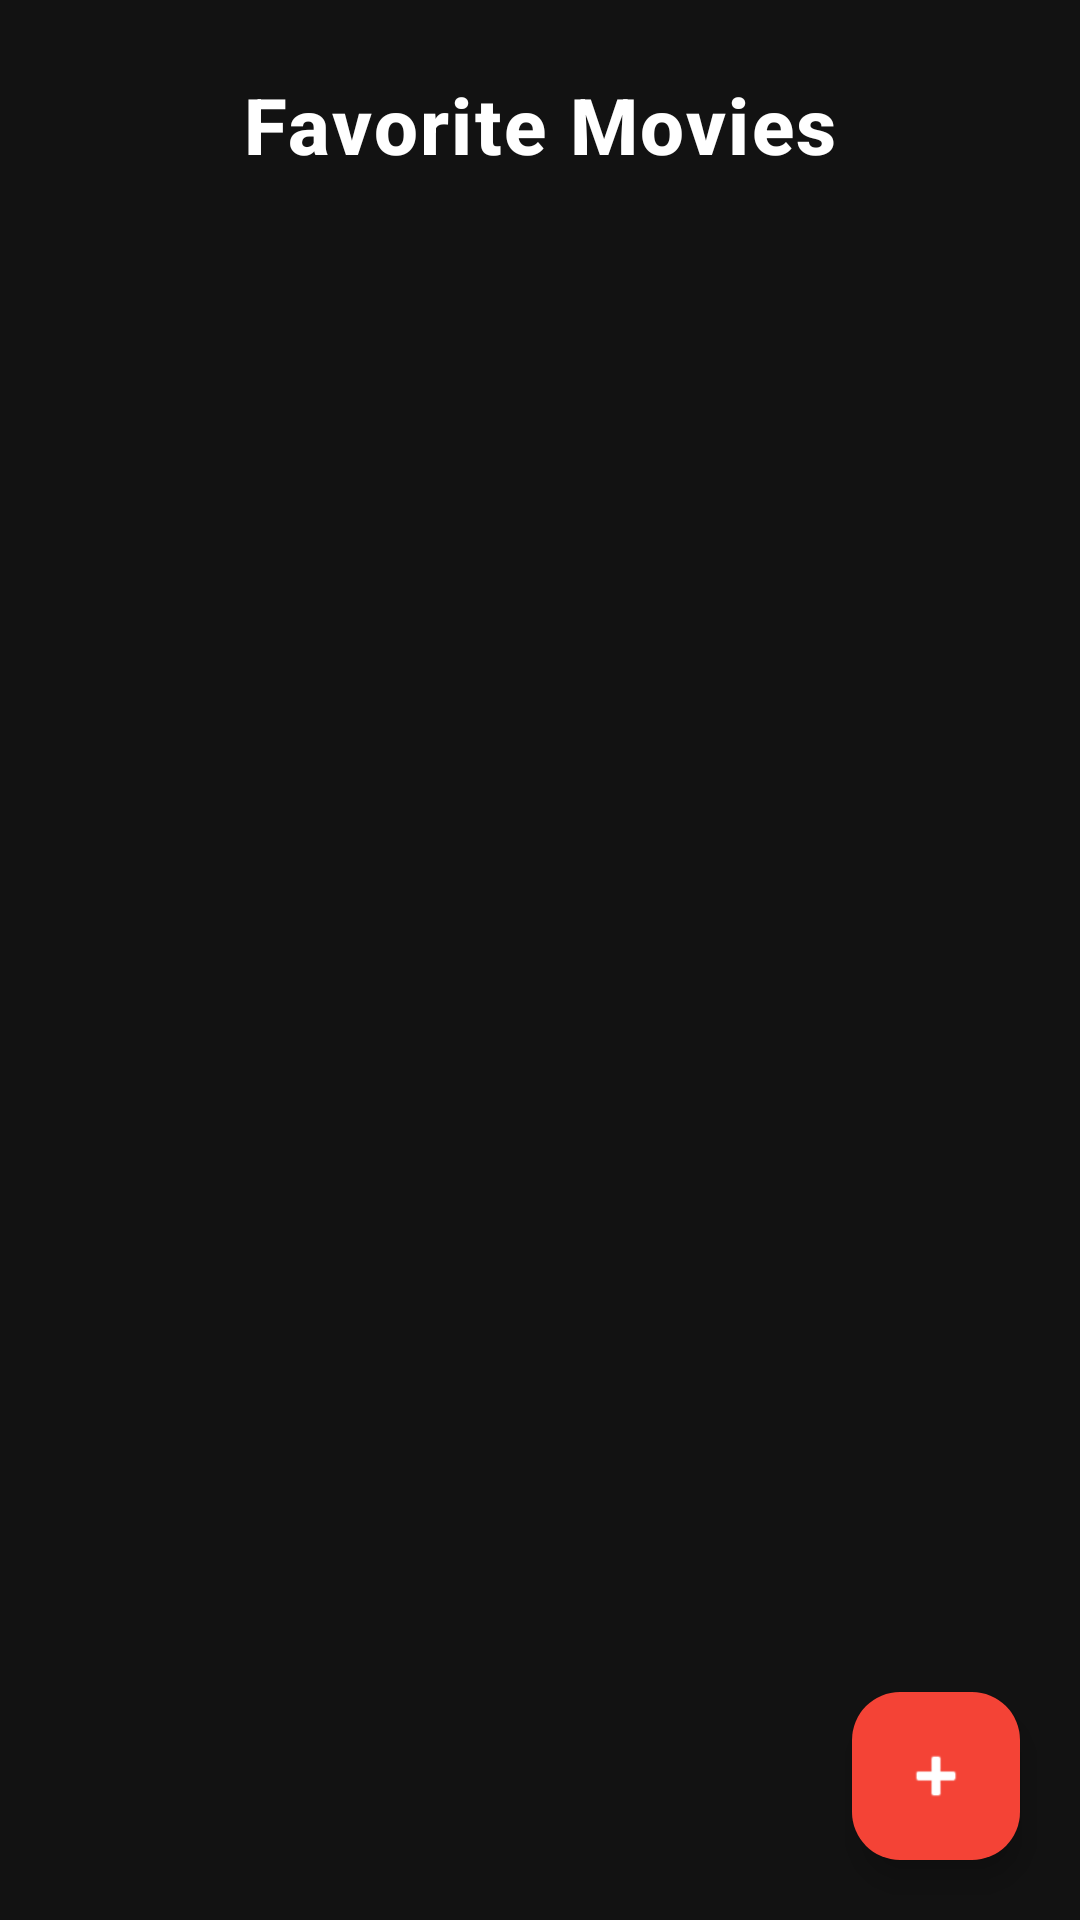

Screen size 1080px x 1920px. Icon name, then its center in pixels as (x,y):
Add Movie: (936,1776)
